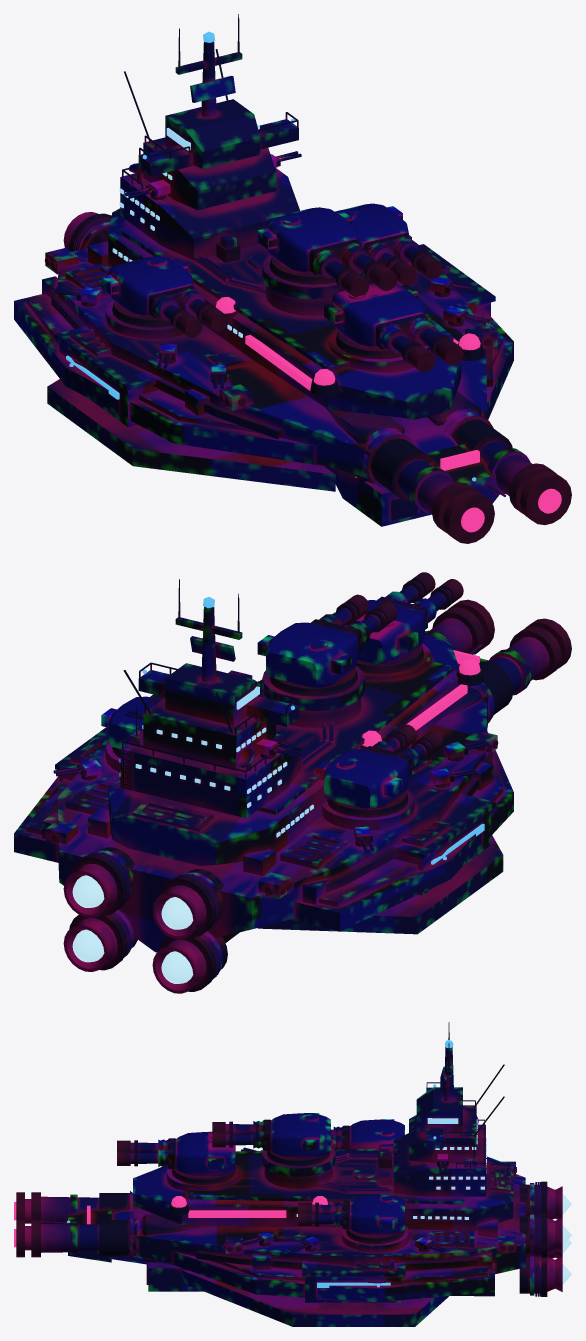
File: iron_dreadnought_wreck.glb
The picture shows the model from 3 angles, top to bottom: view 1: azimuth 30°, elevation 25°; view 2: azimuth 150°, elevation 25°; view 3: azimuth 270°, elevation 25°; orthographic projection. The views are drawn at different scales.
Parts seen in each view (by area): view 1: iron_dreadnought_wreck_03, iron_dreadnought_wreck_02, iron_dreadnought_wreck_14, iron_dreadnought_wreck_07, iron_dreadnought_wreck_11, iron_dreadnought_wreck_12, iron_dreadnought_wreck_18, iron_dreadnought_wreck_06, iron_dreadnought_wreck_04, iron_dreadnought_wreck_00, iron_dreadnought_wreck_19, iron_dreadnought_wreck_15 (+3 smaller); view 2: iron_dreadnought_wreck_12, iron_dreadnought_wreck_01, iron_dreadnought_wreck_11, iron_dreadnought_wreck_05, iron_dreadnought_wreck_07, iron_dreadnought_wreck_03, iron_dreadnought_wreck_15, iron_dreadnought_wreck_17, iron_dreadnought_wreck_02, iron_dreadnought_wreck_14, iron_dreadnought_wreck_06, iron_dreadnought_wreck_04 (+4 smaller); view 3: iron_dreadnought_wreck_13, iron_dreadnought_wreck_08, iron_dreadnought_wreck_00, iron_dreadnought_wreck_02, iron_dreadnought_wreck_05, iron_dreadnought_wreck_06, iron_dreadnought_wreck_19, iron_dreadnought_wreck_18, iron_dreadnought_wreck_15, iron_dreadnought_wreck_07, iron_dreadnought_wreck_17, iron_dreadnought_wreck_10 (+3 smaller).
Part boxes in pixels (bbox=[...]): iron_dreadnought_wreck_03: bbox=[104, 304, 289, 484]; iron_dreadnought_wreck_02: bbox=[347, 395, 571, 543]; iron_dreadnought_wreck_14: bbox=[246, 308, 391, 490]; iron_dreadnought_wreck_07: bbox=[101, 186, 269, 343]; iron_dreadnought_wreck_11: bbox=[14, 279, 134, 453]; iron_dreadnought_wreck_12: bbox=[58, 71, 229, 286]; iron_dreadnought_wreck_18: bbox=[357, 298, 487, 410]; iron_dreadnought_wreck_06: bbox=[276, 239, 461, 375]; iron_dreadnought_wreck_04: bbox=[172, 14, 272, 172]; iron_dreadnought_wreck_00: bbox=[351, 204, 495, 316]; iron_dreadnought_wreck_19: bbox=[227, 112, 379, 230]; iron_dreadnought_wreck_15: bbox=[257, 207, 370, 307]; iron_dreadnought_wreck_12: bbox=[157, 687, 326, 876]; iron_dreadnought_wreck_01: bbox=[142, 827, 332, 993]; iron_dreadnought_wreck_11: bbox=[295, 805, 486, 934]; iron_dreadnought_wreck_05: bbox=[14, 754, 185, 878]; iron_dreadnought_wreck_07: bbox=[272, 716, 428, 842]; iron_dreadnought_wreck_03: bbox=[357, 697, 513, 883]; iron_dreadnought_wreck_15: bbox=[257, 622, 364, 734]; iron_dreadnought_wreck_17: bbox=[59, 863, 167, 971]; iron_dreadnought_wreck_02: bbox=[424, 599, 571, 727]; iron_dreadnought_wreck_14: bbox=[402, 617, 499, 760]; iron_dreadnought_wreck_06: bbox=[258, 594, 413, 714]; iron_dreadnought_wreck_04: bbox=[123, 579, 260, 721]; iron_dreadnought_wreck_13: bbox=[163, 1206, 311, 1326]; iron_dreadnought_wreck_08: bbox=[302, 1239, 493, 1326]; iron_dreadnought_wreck_00: bbox=[282, 1187, 402, 1305]; iron_dreadnought_wreck_02: bbox=[14, 1177, 159, 1264]; iron_dreadnought_wreck_05: bbox=[417, 1155, 547, 1291]; iron_dreadnought_wreck_06: bbox=[180, 1119, 293, 1229]; iron_dreadnought_wreck_19: bbox=[372, 1125, 486, 1243]; iron_dreadnought_wreck_18: bbox=[117, 1132, 195, 1241]; iron_dreadnought_wreck_15: bbox=[270, 1113, 383, 1193]; iron_dreadnought_wreck_07: bbox=[331, 1118, 410, 1181]; iron_dreadnought_wreck_17: bbox=[481, 1217, 571, 1296]; iron_dreadnought_wreck_10: bbox=[143, 1224, 229, 1301].
Bounding box in the file's own units: 5.2 × 4.72 × 9.09.
14 materials, 10 textured.
